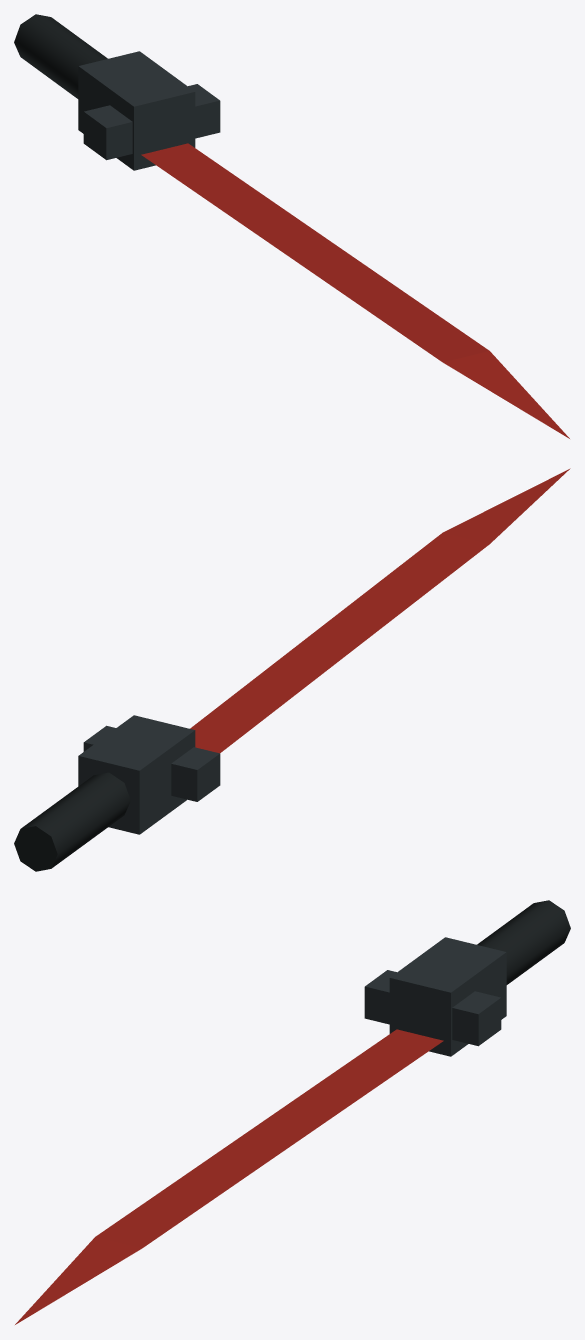
3 renders of one model, top to bottom at view 1: azimuth 30°, elevation 25°; view 2: azimuth 150°, elevation 25°; view 3: azimuth 330°, elevation 25°, orthographic.
Visible parts, largest first — view 1: weapon-energy-sword-painted; view 2: weapon-energy-sword-painted; view 3: weapon-energy-sword-painted.
Boxes of the visible parts, <box> form: weapon-energy-sword-painted: <box>14,14,569,438</box>; weapon-energy-sword-painted: <box>14,468,570,871</box>; weapon-energy-sword-painted: <box>15,900,570,1324</box>.
Size of the model in its own units: 0.6778 by 0.3649 by 5.53.
